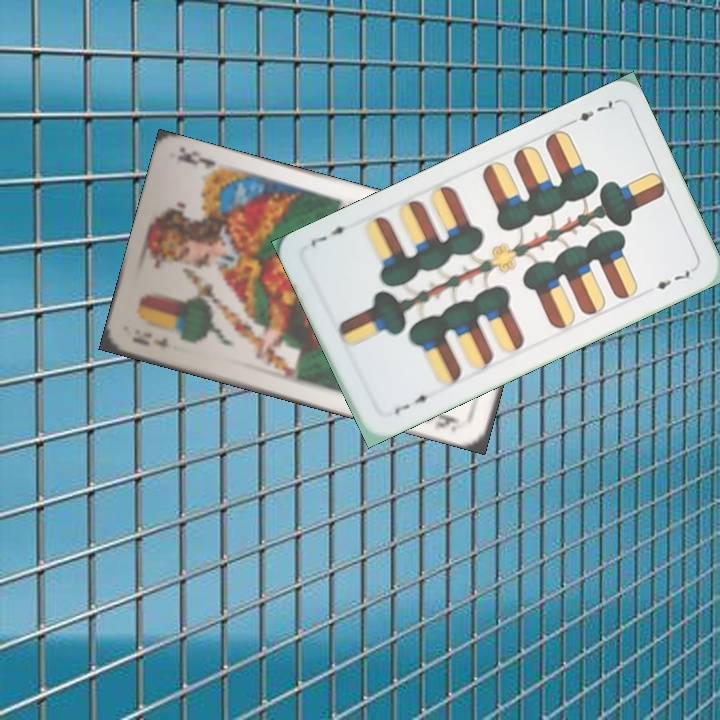E7: (563, 97, 618, 128), (389, 390, 436, 418)
EK: (128, 328, 171, 349)
